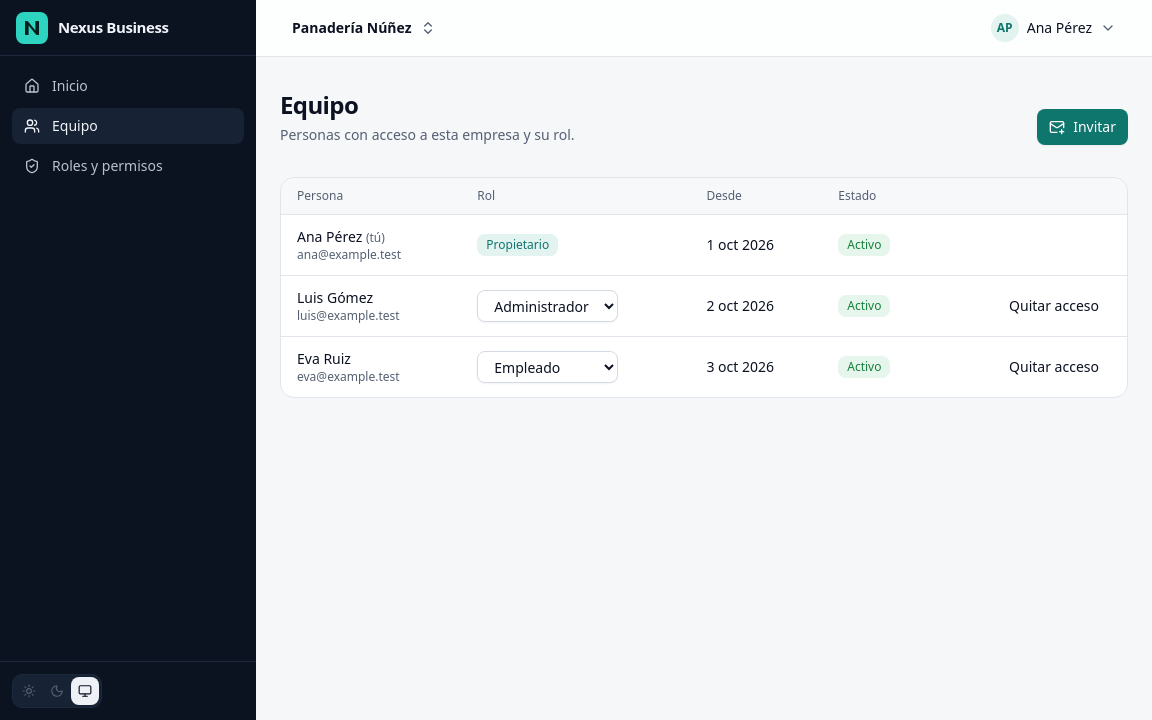
Test case: team page › shows the reason when the API refuses a change
The image size is (1152, 720).
Select "Administrador" in the dropdown named "Rol de Eva Ruiz" at (548, 367), box [477,351,618,383]
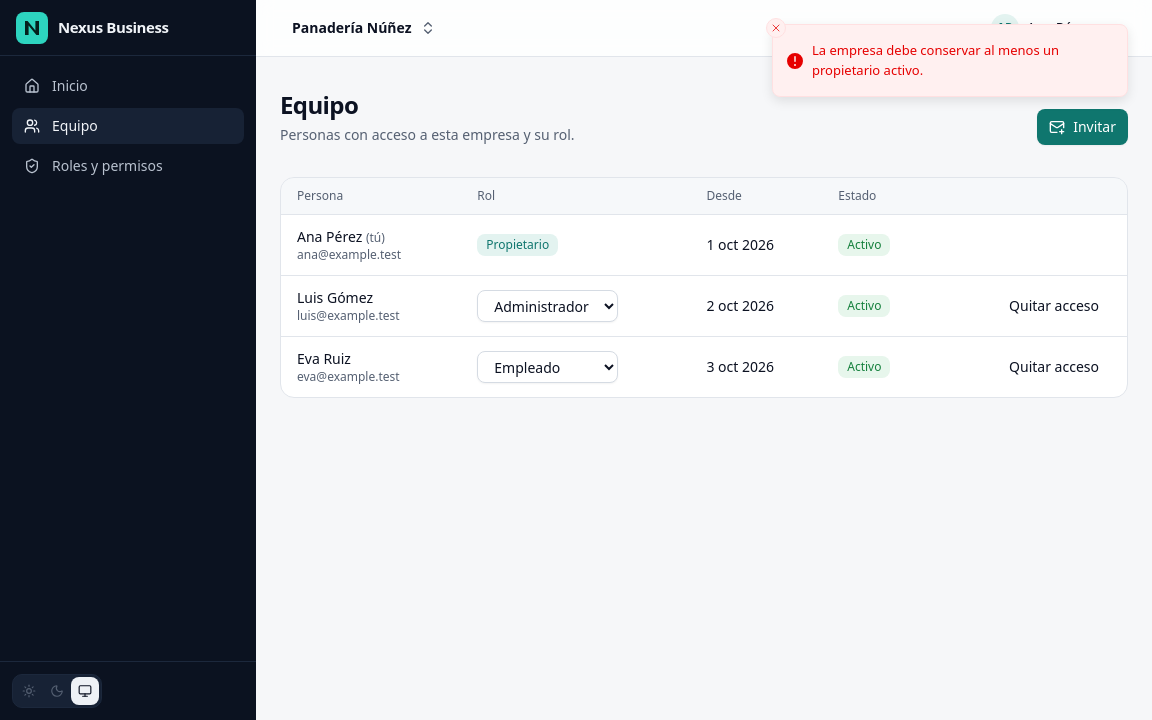
Expected: the text "La empresa debe conservar al menos un propietario activo." is shown, [812,41,1059,78]
